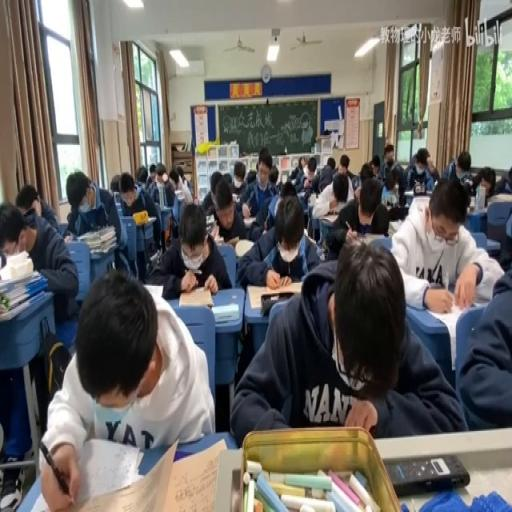calculator: (157, 436, 227, 510), (417, 292, 486, 364), (246, 283, 302, 310), (75, 224, 117, 254), (178, 287, 212, 307), (212, 302, 238, 324), (408, 193, 434, 215), (156, 202, 174, 232), (470, 287, 496, 306), (355, 232, 388, 246), (234, 238, 256, 256), (142, 283, 164, 299), (135, 213, 158, 226), (205, 214, 217, 234), (303, 229, 317, 245), (490, 192, 512, 202), (148, 248, 161, 263), (157, 182, 164, 208), (225, 235, 240, 246), (388, 219, 398, 235), (320, 212, 339, 220), (242, 214, 256, 224), (62, 232, 77, 240), (308, 192, 316, 206), (174, 189, 184, 199), (296, 189, 306, 199), (112, 189, 119, 202), (230, 193, 238, 202), (214, 235, 222, 243)
paper: (230, 239, 458, 442), (41, 264, 212, 512), (389, 178, 500, 311), (2, 196, 79, 327), (236, 192, 318, 286), (154, 199, 228, 299), (322, 174, 388, 253), (114, 171, 160, 276), (294, 156, 318, 225), (376, 145, 406, 199), (493, 194, 512, 271), (406, 145, 436, 193), (440, 149, 474, 189), (201, 168, 227, 215), (470, 165, 496, 206), (492, 165, 512, 196), (338, 151, 354, 179), (232, 162, 246, 192), (278, 178, 298, 198), (386, 205, 408, 222), (134, 165, 148, 186), (332, 181, 346, 202), (358, 164, 372, 184), (154, 165, 168, 185), (167, 168, 179, 190), (267, 165, 278, 186), (370, 154, 380, 176), (109, 174, 121, 192), (244, 168, 256, 183), (349, 174, 360, 190), (290, 165, 299, 182), (326, 155, 335, 169), (386, 180, 395, 194), (300, 156, 307, 170), (149, 163, 156, 175)
person: (386, 452, 470, 494), (318, 238, 328, 258)
